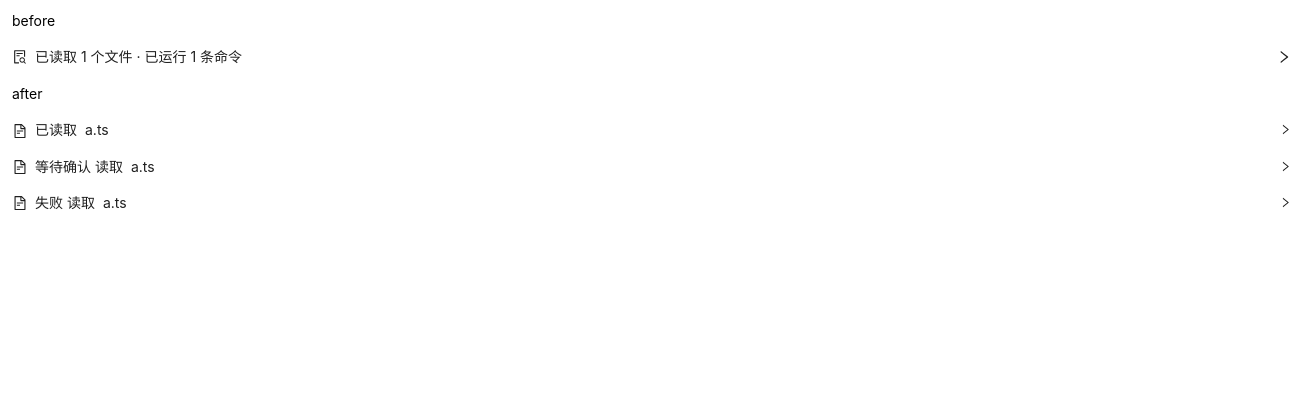
Test: completed tool aggregation › preserves prose order, never crosses prose/waiting/error boundaries, and expands details
Expected: the number of buttons with class "tool-group-toggle" is 1, [12, 41, 1291, 73]
Expected: the button with class "tool-group-toggle" shows "已运行 1 条命令", [12, 41, 1291, 73]
Click the button with class "tool-compact-head" showing "失败 读取 a.ts".
click(65, 203)  # box [12, 187, 1291, 220]
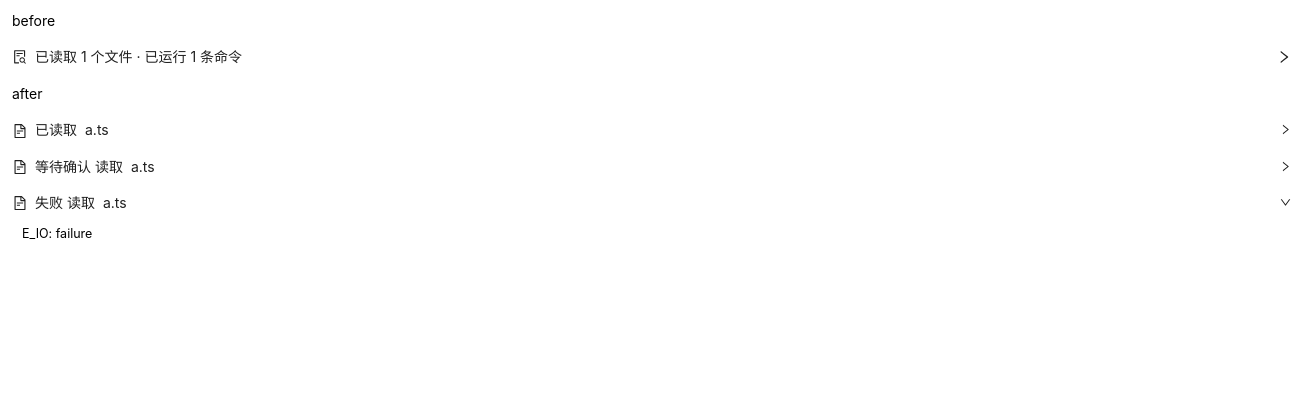
Expected: the element showing "before" is shown, [12, 12, 55, 29]
Now the text "E_IO: failure" is shown, box [22, 226, 92, 241]
Click the button with class "tool-group-toggle".
click(139, 56)  # box [12, 41, 1291, 73]
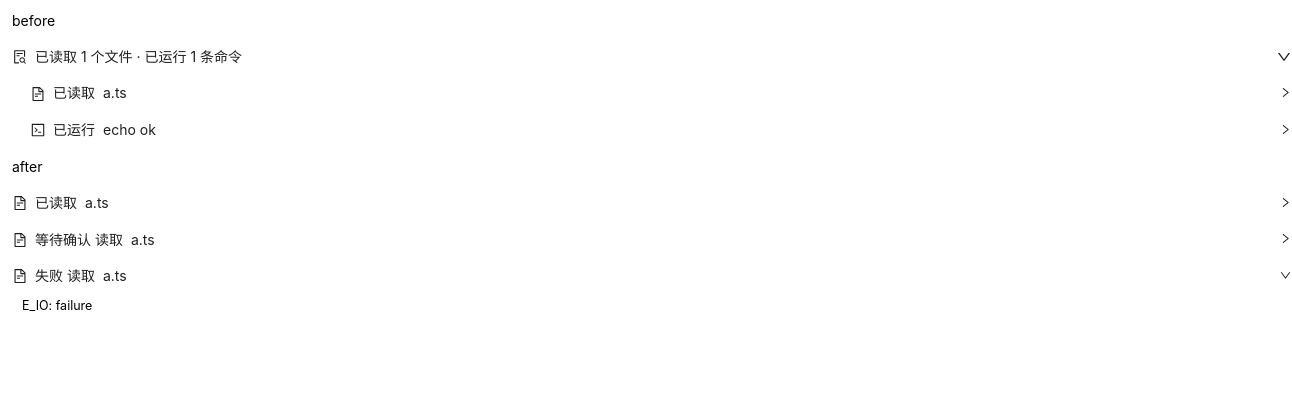
Click the text "echo ok".
click(129, 129)  # box [103, 121, 156, 138]
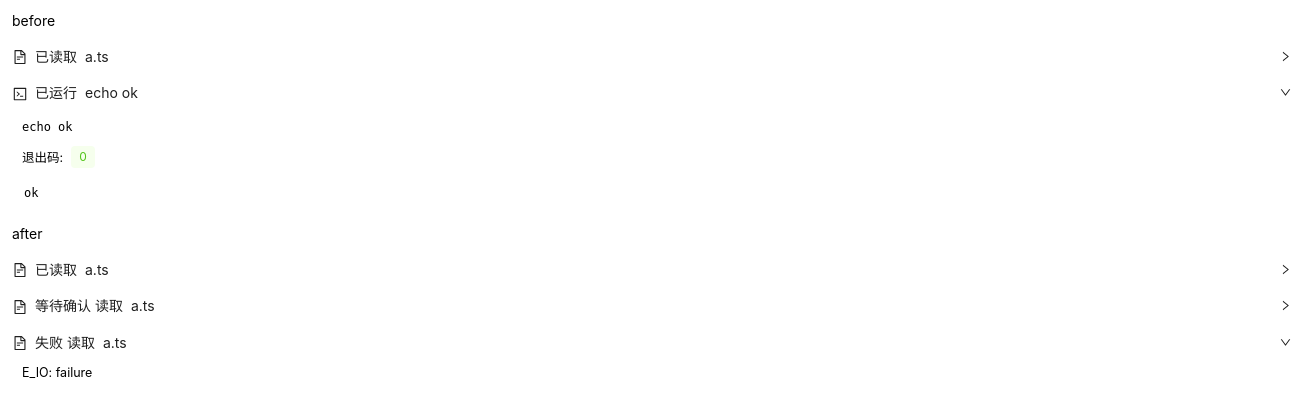
Now the text "ok" is shown, box [24, 186, 38, 200]
